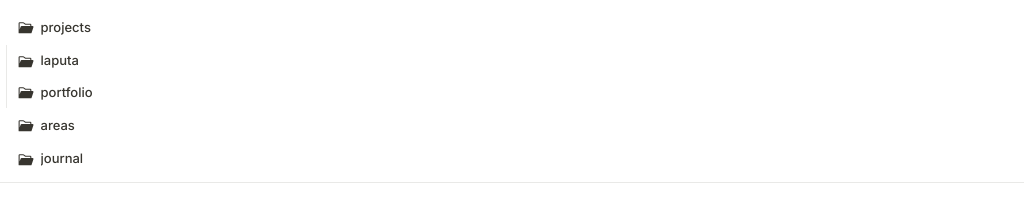
FolderTree › dismisses the folder context menu on Escape
Step 1. Right-click the button "projects" → (66, 27), box [6,12,1018,44]
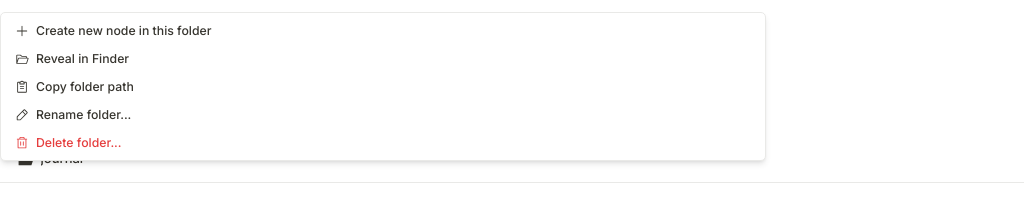
Step 2. Press Escape
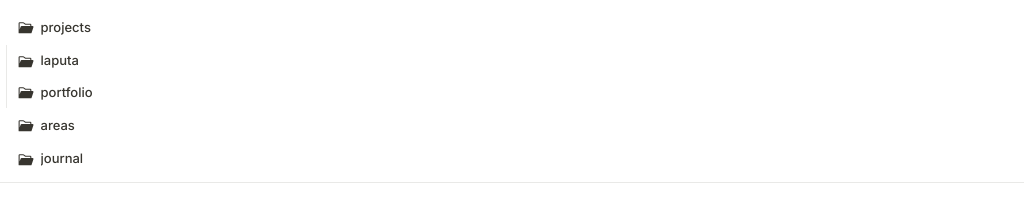
Now the element with test id "folder-context-menu" is gone
